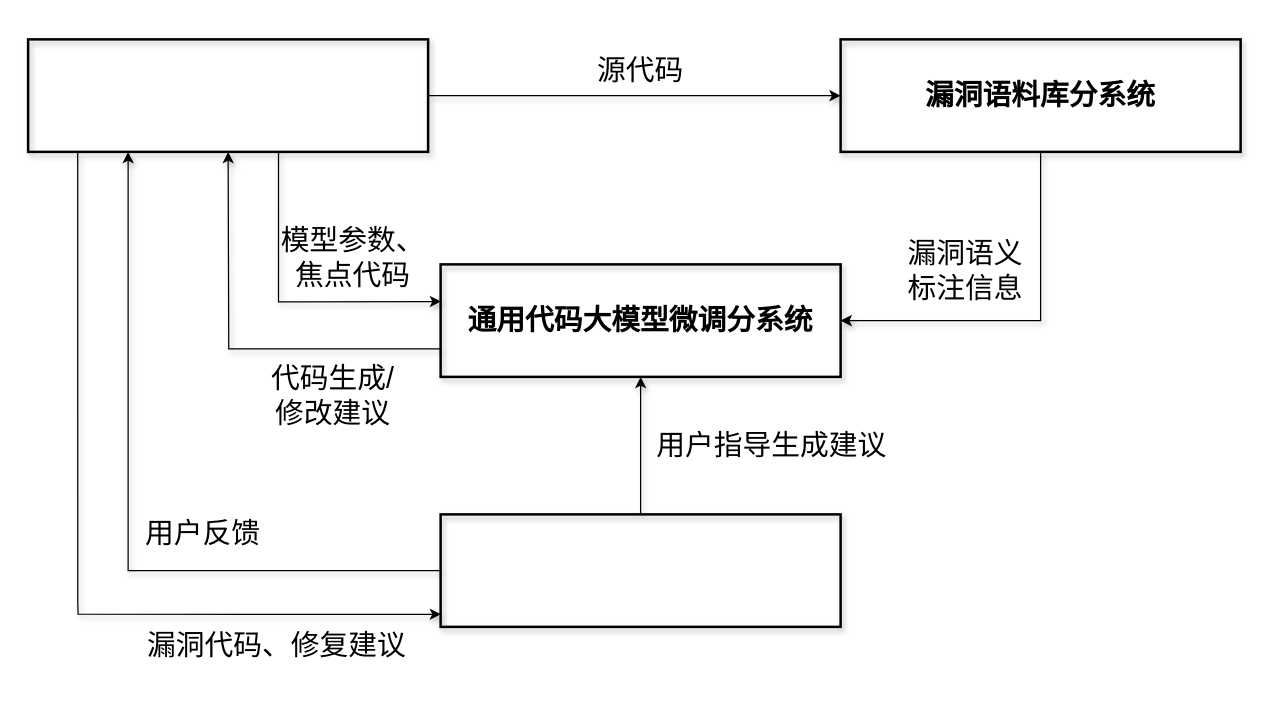
Image size: 1270x719. Some labels were removed from this diagram. The shapes that lost their labels are listed below. From the top down, each one's centre as x and y in pixels, then its label:
(228,96): 通用代码大模型分系统
(641,572): 大模型应用分系统
